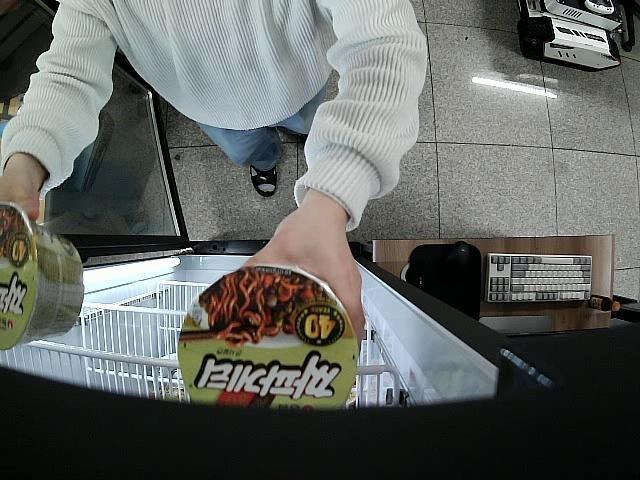03_chapagetti_L: (176, 266, 358, 418), (0, 202, 83, 352)
